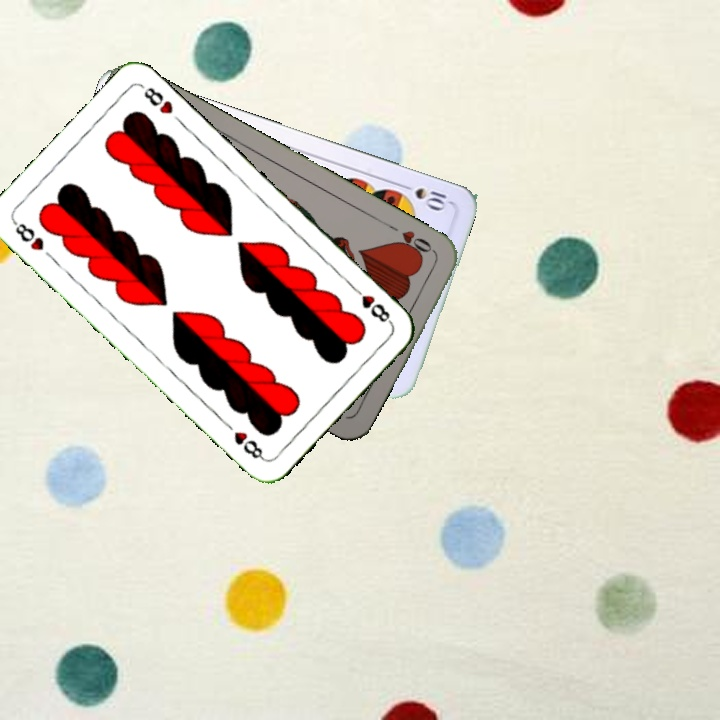H8: (347, 282, 395, 327), (9, 217, 47, 254)
HO: (384, 220, 438, 261)
S10: (394, 179, 453, 214)
